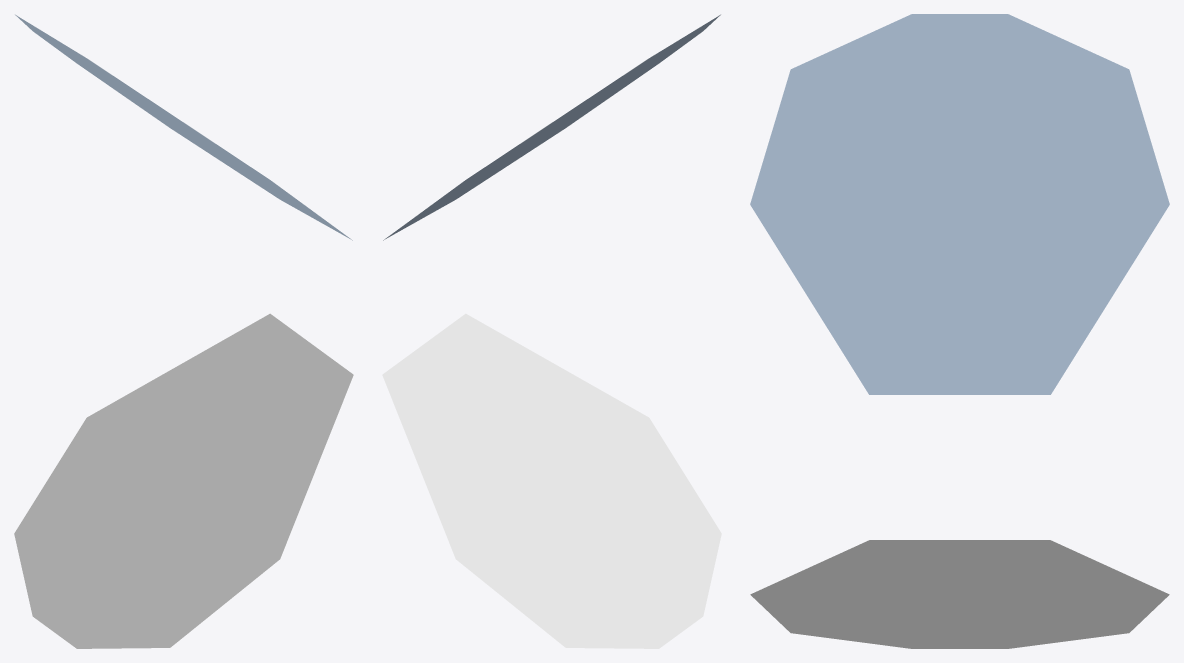
File: CreativeCoding_BeeWingsAnimTest.fbx
3 views of the same model, side by side, from view 1: azimuth 30°, elevation 25°; view 2: azimuth 150°, elevation 25°; view 3: azimuth 270°, elevation 25° (orthographic). The views are drawn at different scales.
Visible parts, largest first — view 1: WingLeft, WingRight; view 2: WingLeft, WingRight; view 3: WingRight, WingLeft.
Part boxes in pixels (x1,y1,x2,y2): WingLeft: (14, 313, 353, 648); WingRight: (15, 14, 352, 240); WingLeft: (382, 313, 721, 648); WingRight: (383, 14, 720, 240); WingRight: (750, 14, 1169, 394); WingLeft: (750, 540, 1169, 648).
Size of the model in its own units: 127 by 277 by 166.
